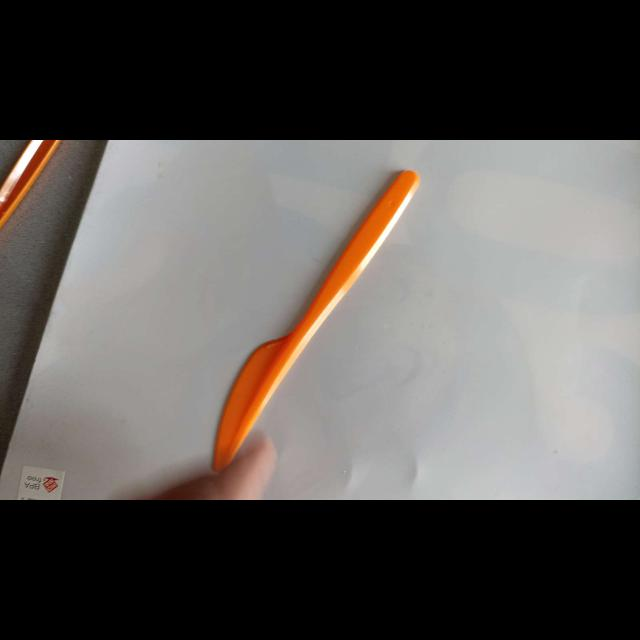plastic_cultery: (206, 165, 422, 482)
